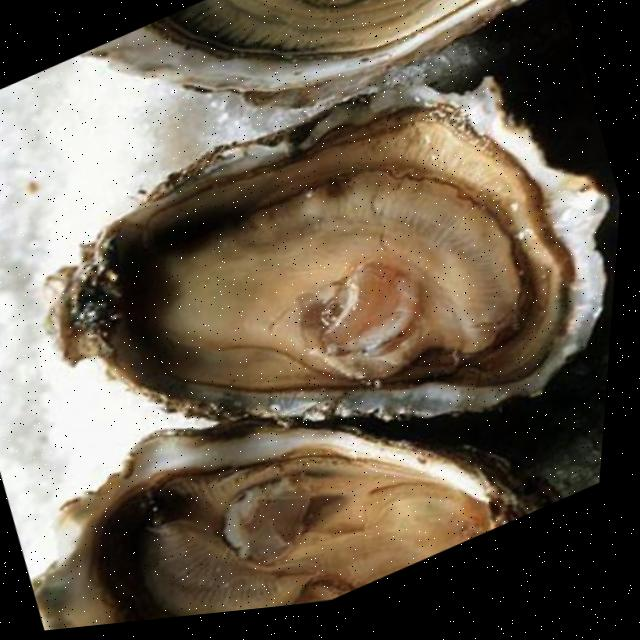Oyster-Open: (0, 0, 635, 590), (0, 286, 541, 636), (68, 0, 568, 201)
